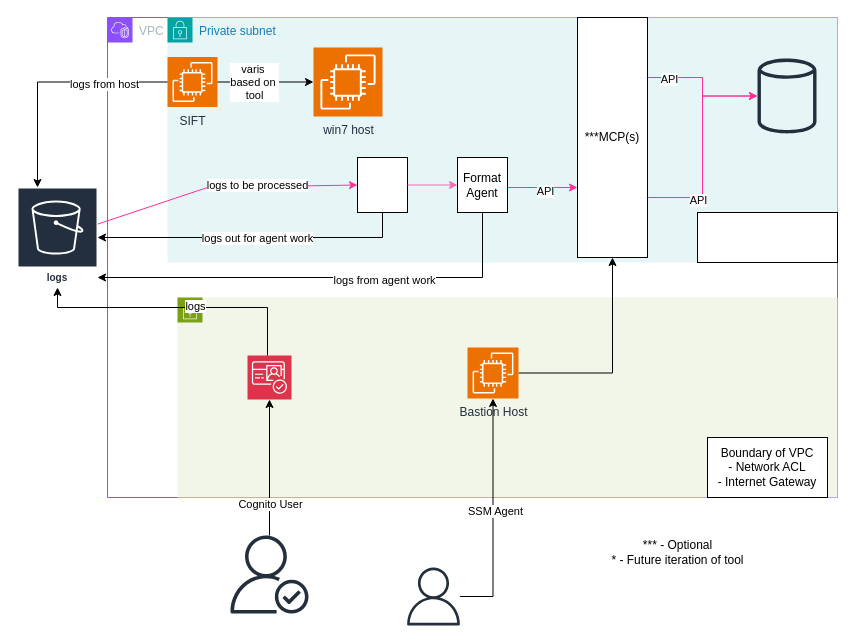
The diagram is 855 pixels wide and 643 high, and some of its shapes have lost their labels. The shapes that lost their labels are listed below. From the top down, each one's box as (x1, y1, x2, y2) in pixels, then its label:
(757, 56, 816, 134): database of logs from SANs
(356, 156, 408, 212): * DLP Agent
(696, 212, 838, 262): Private subnet outbound only through NAT gateway
(176, 296, 838, 498): Public subnet
